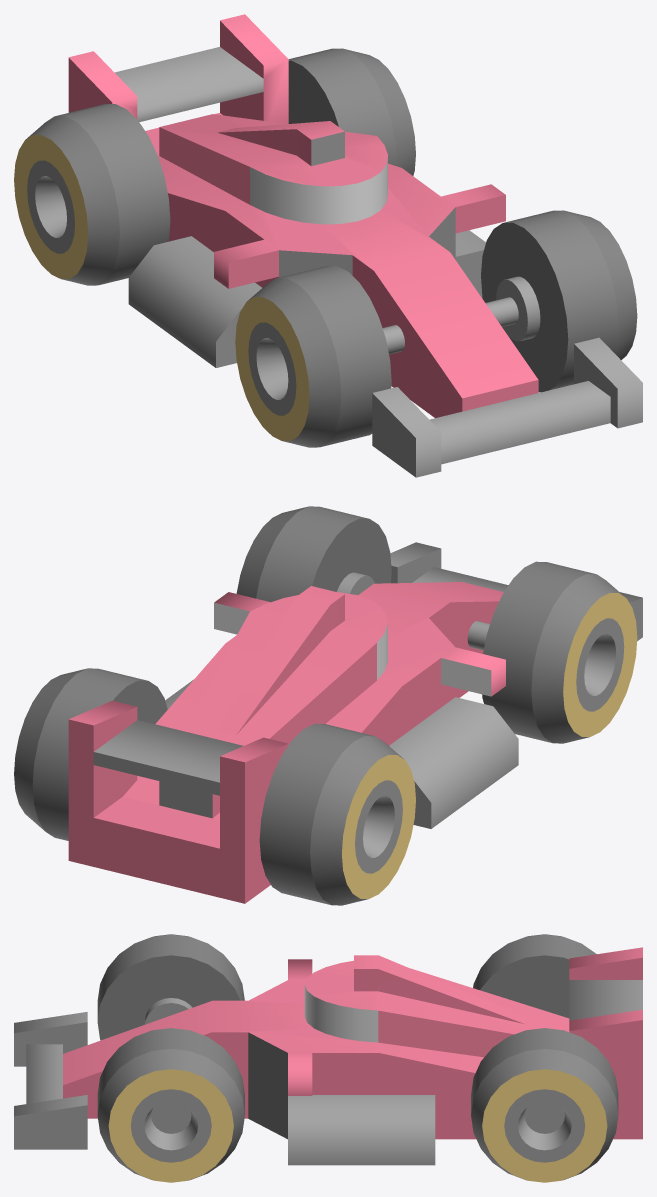
File: raceCar.gltf
3 views of the same model, one above another, from view 1: azimuth 30°, elevation 25°; view 2: azimuth 150°, elevation 25°; view 3: azimuth 270°, elevation 25° (orthographic). The views are drawn at different scales.
Parts seen in each view (by area): view 1: body, wheel_frontRight, wheel_backRight, wheel_frontLeft, wheel_backLeft; view 2: body, wheel_backRight, wheel_frontRight, wheel_backLeft, wheel_frontLeft; view 3: body, wheel_backLeft, wheel_frontLeft, wheel_frontRight, wheel_backRight.
Boxes of the visible parts, x1,y1,x2,y2 form: body: (68, 14, 642, 477); wheel_frontRight: (235, 266, 391, 447); wheel_backRight: (14, 104, 170, 285); wheel_frontLeft: (481, 210, 637, 392); wheel_backLeft: (288, 48, 415, 175); body: (68, 542, 642, 903); wheel_backRight: (259, 723, 415, 905); wheel_frontRight: (482, 561, 637, 743); wheel_backLeft: (14, 668, 167, 840); wheel_frontLeft: (236, 506, 391, 602); body: (14, 947, 642, 1165); wheel_backLeft: (471, 1028, 618, 1182); wheel_frontLeft: (97, 1028, 244, 1182); wheel_frontRight: (97, 934, 244, 1040); wheel_backRight: (473, 934, 596, 1018).
Size of the model in its own units: 1.3 by 0.7325 by 2.56.
